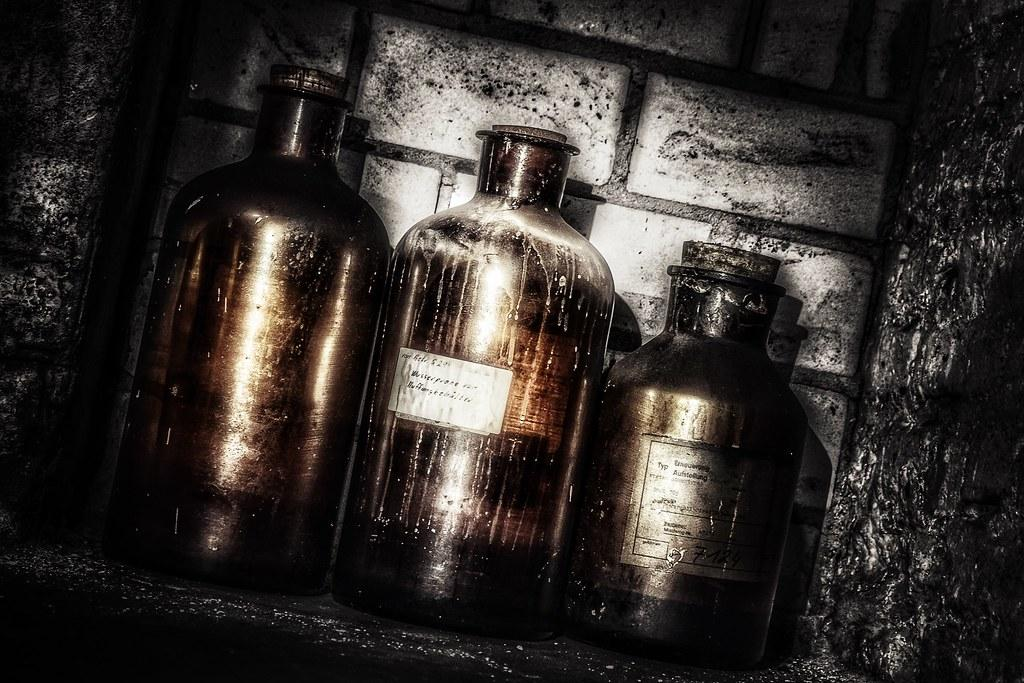bottle: (102, 63, 395, 597), (331, 123, 617, 642), (563, 239, 813, 671)
